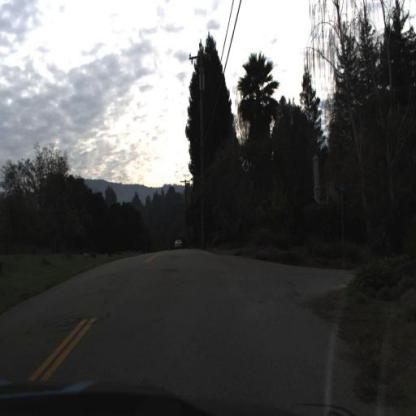car: (173, 236, 188, 254), (176, 237, 185, 250)
